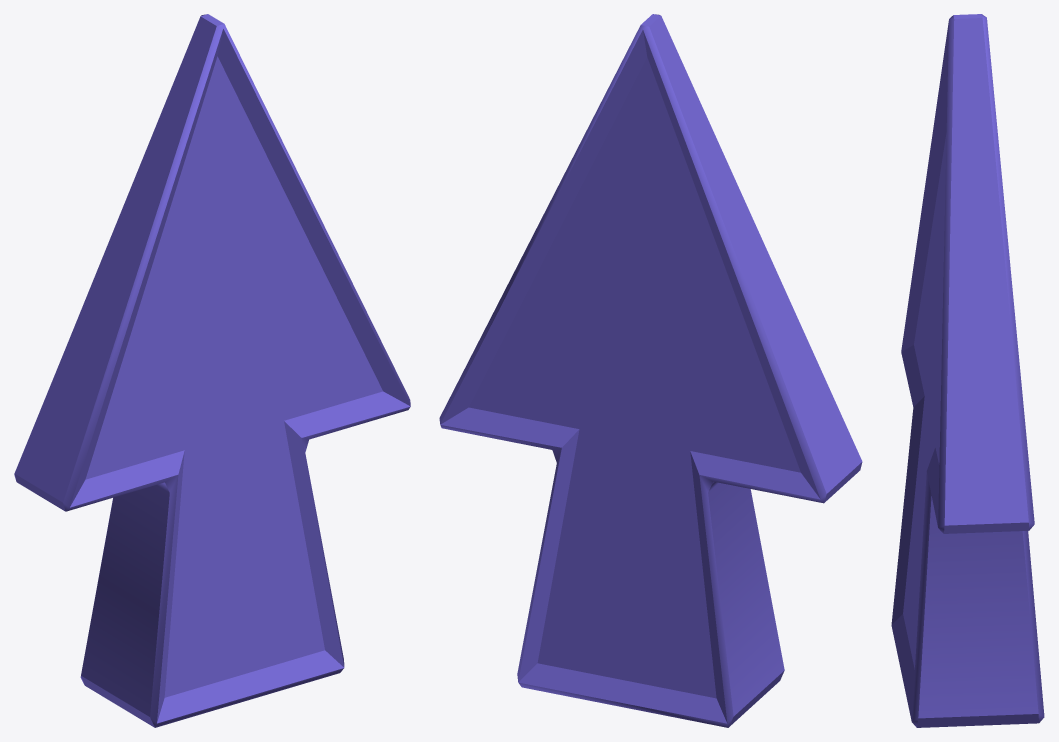
Rendered from APIIIISETA.glb.
3 views of the same model, side by side, from view 1: azimuth 30°, elevation 25°; view 2: azimuth 150°, elevation 25°; view 3: azimuth 270°, elevation 25° (orthographic).
Visible parts, largest first — view 1: node_id31; view 2: node_id31; view 3: node_id31.
Part boxes in pixels (x1,y1,x2,y2): node_id31: (14,14,410,727); node_id31: (439,14,862,727); node_id31: (891,14,1044,727).
Size of the model in its own units: 0.6883 by 1.16 by 0.2442.
Materials: 1 (1 with a texture image).
